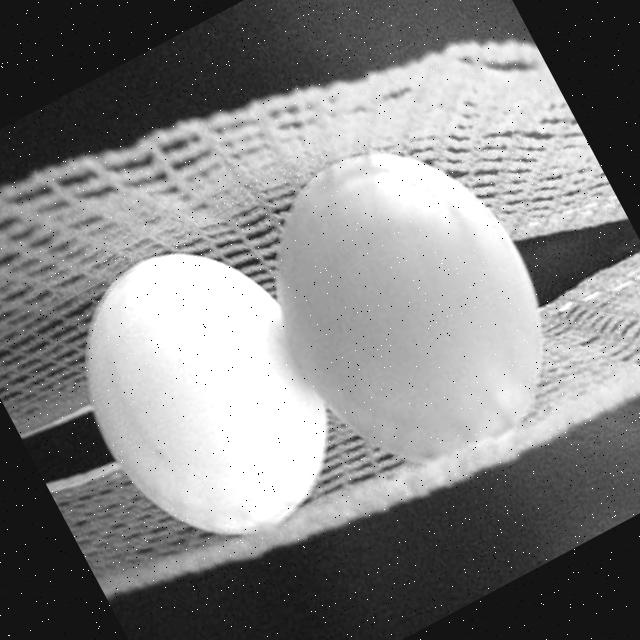ping-pong-ball: (216, 104, 594, 510), (32, 208, 372, 578)
